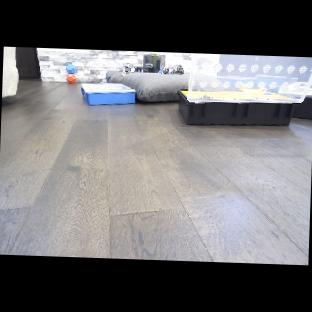V5_BLUE: (66, 63, 76, 73)
V5_RED: (66, 73, 76, 84)
